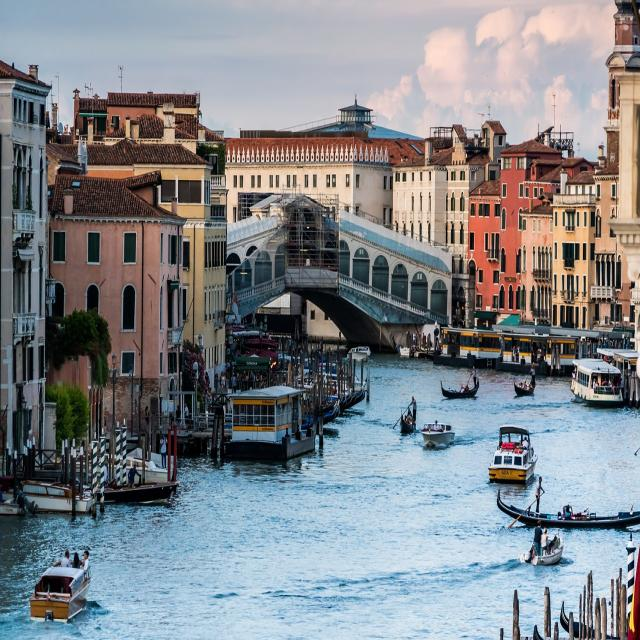boat: (495, 482, 640, 544), (32, 538, 98, 630), (486, 411, 540, 498), (433, 369, 486, 413), (419, 416, 457, 466), (399, 388, 419, 443), (514, 367, 540, 405)
